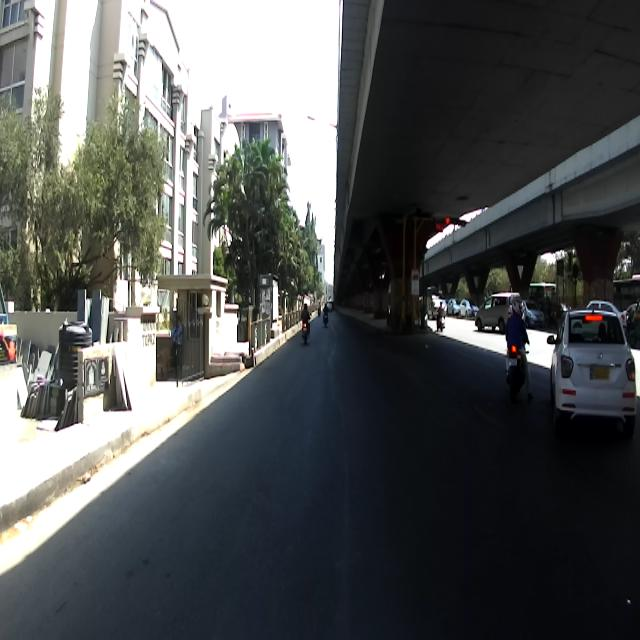car ahead at: (548, 304, 634, 426)
